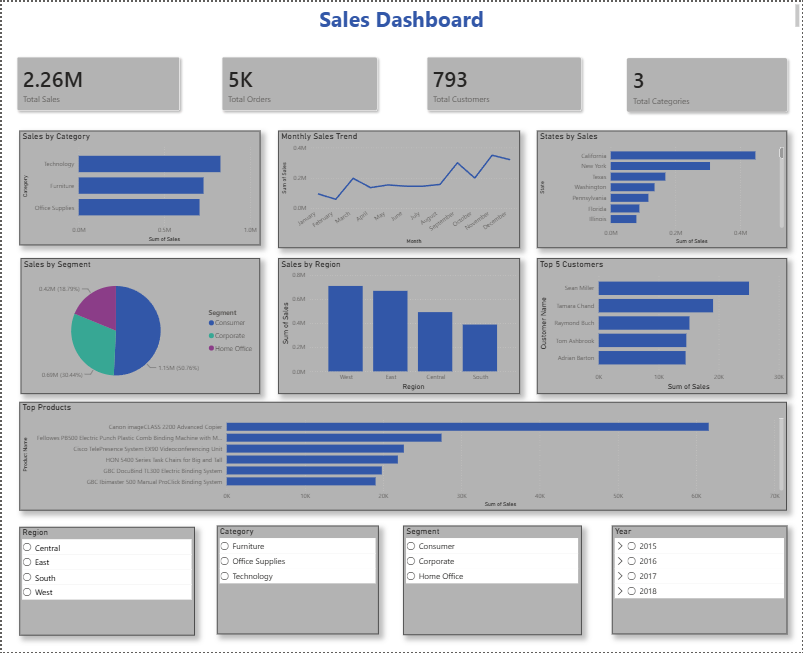

The page's visual inventory and layout, read from the dashboard file:
{"tool":"powerbi","page":{"name":"Page 1","canvas":[1600,1300],"ordinal":0},"visuals":[{"type":"textbox","box":[8,0,1592,60],"z":0},{"type":"cardVisual","fields":{"Data":["Sales_Data.Total Orders"]},"box":[410,80,370,167.1],"z":2000},{"type":"cardVisual","fields":{"Data":["Sales_Data.Total Customers"]},"box":[820,80,368.6,167.1],"z":3000},{"type":"clusteredBarChart","title":"Sales by Category","fields":{"Category":["Sales_Data.Category"],"Y":["Sum(Sales_Data.Sales)"]},"box":[35.7,258.6,481.4,228.6],"z":4000},{"type":"lineChart","title":"Monthly Sales Trend","fields":{"Y":["Sum(Sales_Data.Sales)"],"Category":["Sales_Data.Order Date.Variation.Date Hierarchy.Year","Sales_Data.Order Date.Variation.Date Hierarchy.Quarter","Sales_Data.Order Date.Variation.Date Hierarchy.Month","Sales_Data.Order Date.Variation.Date Hierarchy.Day"]},"box":[551.4,258.6,482.9,234.3],"z":5000},{"type":"pieChart","title":"Sales by Segment","fields":{"Category":["Sales_Data.Segment"],"Y":["Sum(Sales_Data.Sales)"]},"box":[38.6,512.9,478.6,271.4],"z":6000},{"type":"clusteredColumnChart","title":"Sales by Region","fields":{"Category":["Sales_Data.Region"],"Y":["Sum(Sales_Data.Sales)"]},"box":[551.4,512.9,482.9,271.4],"z":7000},{"type":"barChart","title":"Top Products","fields":{"Category":["Sales_Data.Product Name"],"Y":["Sum(Sales_Data.Sales)"]},"box":[35.7,800,1534.3,217.1],"z":8000},{"type":"cardVisual","fields":{"Data":["Sales_Data.Total Categories"]},"box":[1220,81.4,380,167.1],"z":9000},{"type":"clusteredBarChart","title":"States by Sales","fields":{"Category":["Sales_Data.State"],"Y":["Sum(Sales_Data.Sales)"]},"box":[1070,258.6,500,234.3],"z":9001},{"type":"cardVisual","fields":{"Data":["Sales_Data.Total Sales"]},"box":[0,80,385.7,167.1],"z":9002},{"type":"clusteredBarChart","title":"Top 5 Customers","fields":{"Category":["Sales_Data.Customer Name"],"Y":["Sum(Sales_Data.Sales)"]},"box":[1070,512.9,500,271.4],"z":9003},{"type":"listSlicer","fields":{"Values":["Sales_Data.Region"]},"box":[35.6,1048.9,350,216.7],"z":9004},{"type":"listSlicer","fields":{"Values":["Sales_Data.Category"]},"box":[430,1048.3,323.3,216.7],"z":9005},{"type":"listSlicer","fields":{"Values":["Sales_Data.Segment"]},"box":[803.3,1046.7,356.7,218.3],"z":9006},{"type":"listSlicer","fields":{"Values":["Sales_Data.Order Date.Variation.Date Hierarchy.Year","Sales_Data.Order Date.Variation.Date Hierarchy.Quarter","Sales_Data.Order Date.Variation.Date Hierarchy.Month","Sales_Data.Order Date.Variation.Date Hierarchy.Day"]},"box":[1220,1048.3,350,216.7],"z":9007}]}

Visuals, with their boxes in screenshot pixels (x1, y1, x2, y2), scaled from the page's 1600x1300 canvas onto the 803x653 screenshot:
textbox: bbox(4, 0, 802, 30)
cardVisual - Sales_Data.Total Orders: bbox(206, 40, 391, 124)
cardVisual - Sales_Data.Total Customers: bbox(412, 40, 597, 124)
"Sales by Category" clusteredBarChart: bbox(18, 130, 260, 245)
"Monthly Sales Trend" lineChart: bbox(277, 130, 519, 248)
"Sales by Segment" pieChart: bbox(19, 258, 260, 394)
"Sales by Region" clusteredColumnChart: bbox(277, 258, 519, 394)
"Top Products" barChart: bbox(18, 402, 788, 511)
cardVisual - Sales_Data.Total Categories: bbox(612, 41, 802, 125)
"States by Sales" clusteredBarChart: bbox(537, 130, 788, 248)
cardVisual - Sales_Data.Total Sales: bbox(0, 40, 194, 124)
"Top 5 Customers" clusteredBarChart: bbox(537, 258, 788, 394)
listSlicer - Sales_Data.Region: bbox(18, 527, 194, 636)
listSlicer - Sales_Data.Category: bbox(216, 527, 378, 635)
listSlicer - Sales_Data.Segment: bbox(403, 526, 582, 635)
listSlicer - Sales_Data.Order Date.Variation.Date Hierarchy.Year x Sales_Data.Order Date.Variation.Date Hierarchy.Quarter: bbox(612, 527, 788, 635)
